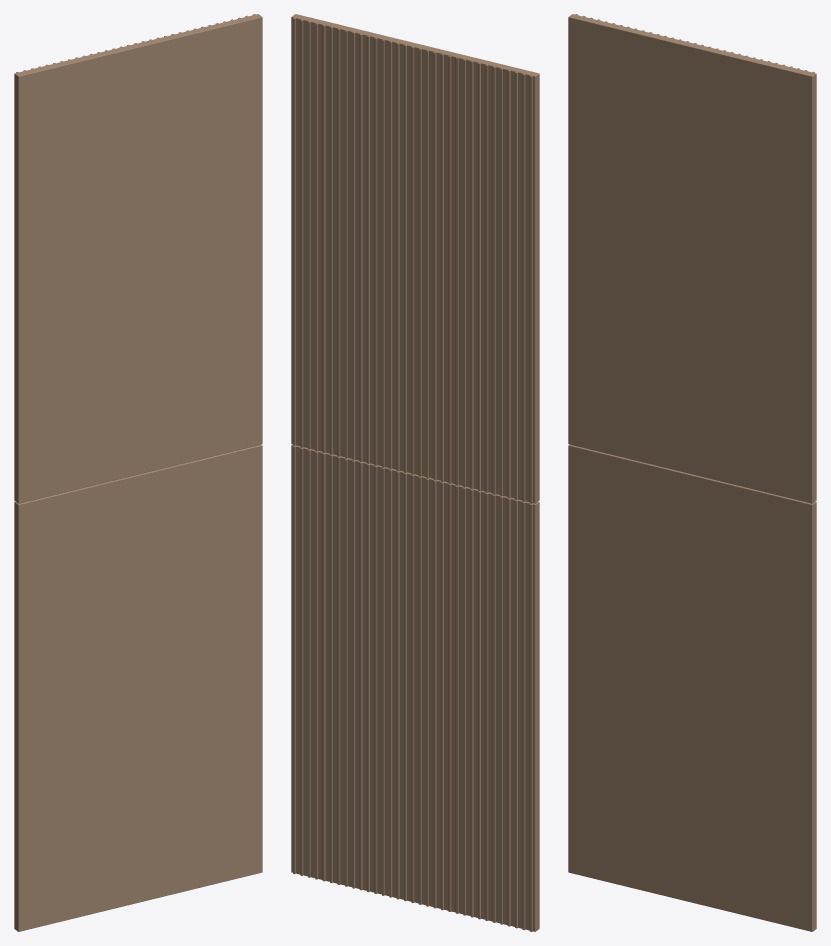
The model's file is DOOR_SINGLE_VERTICAL_2_600x2000.glb.
3 views of the same model, side by side, from view 1: azimuth 30°, elevation 25°; view 2: azimuth 150°, elevation 25°; view 3: azimuth 330°, elevation 25° (orthographic).
Parts seen in each view (by area): view 1: front_panel_01, front_panel_02; view 2: front_panel_01, front_panel_02, front_panel_01_rib_016, front_panel_02_rib_025, front_panel_02_rib_030, front_panel_01_rib_001, front_panel_01_rib_004, front_panel_01_rib_006, front_panel_01_rib_009, front_panel_01_rib_011, front_panel_01_rib_014, front_panel_01_rib_020 (+56 smaller); view 3: front_panel_01, front_panel_02.
Boxes of the visible parts, box(x1,y1,x2,y2) form: front_panel_01: box(14, 14, 262, 503); front_panel_02: box(14, 444, 262, 931); front_panel_01: box(291, 14, 539, 503); front_panel_02: box(291, 444, 539, 931); front_panel_01_rib_016: box(418, 48, 421, 476); front_panel_02_rib_025: box(352, 460, 355, 888); front_panel_02_rib_030: box(315, 451, 318, 879); front_panel_01_rib_001: box(529, 75, 532, 503); front_panel_01_rib_004: box(507, 70, 510, 498); front_panel_01_rib_006: box(492, 66, 495, 494); front_panel_01_rib_009: box(470, 61, 473, 489); front_panel_01_rib_011: box(455, 57, 458, 485); front_panel_01_rib_014: box(433, 52, 436, 480); front_panel_01_rib_020: box(389, 41, 392, 469); front_panel_01: box(568, 14, 816, 503); front_panel_02: box(568, 444, 816, 931).
Bounding box in the file's own units: 0.596 × 2 × 0.022.
